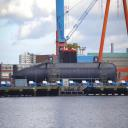submarine: (13, 48, 118, 83)
